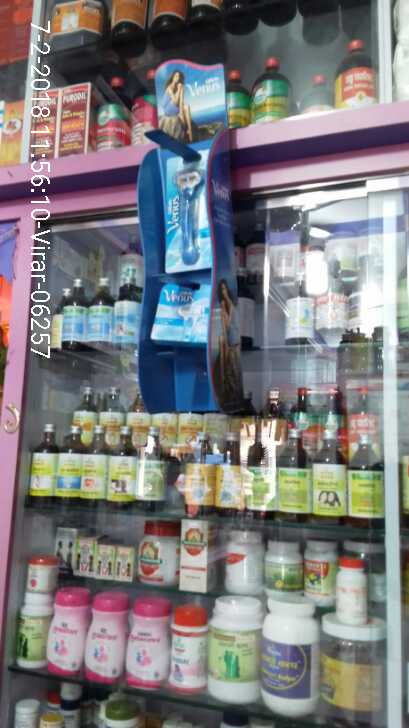venus: (161, 154, 211, 272), (139, 282, 218, 342)
